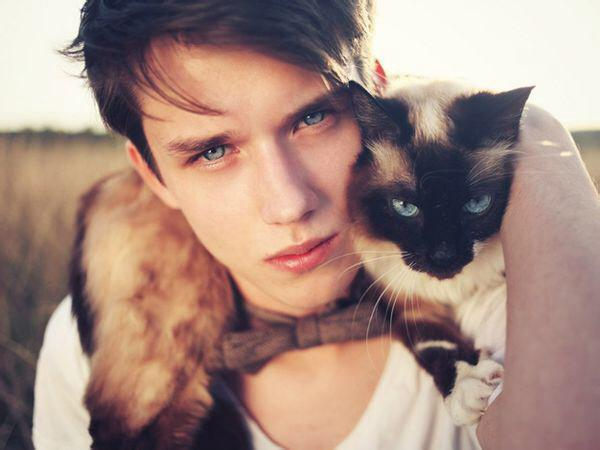people: (91, 28, 471, 387)
